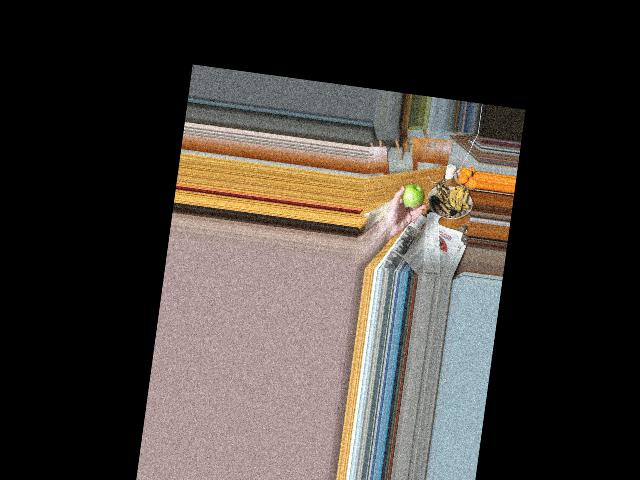apple: (400, 181, 425, 207)
